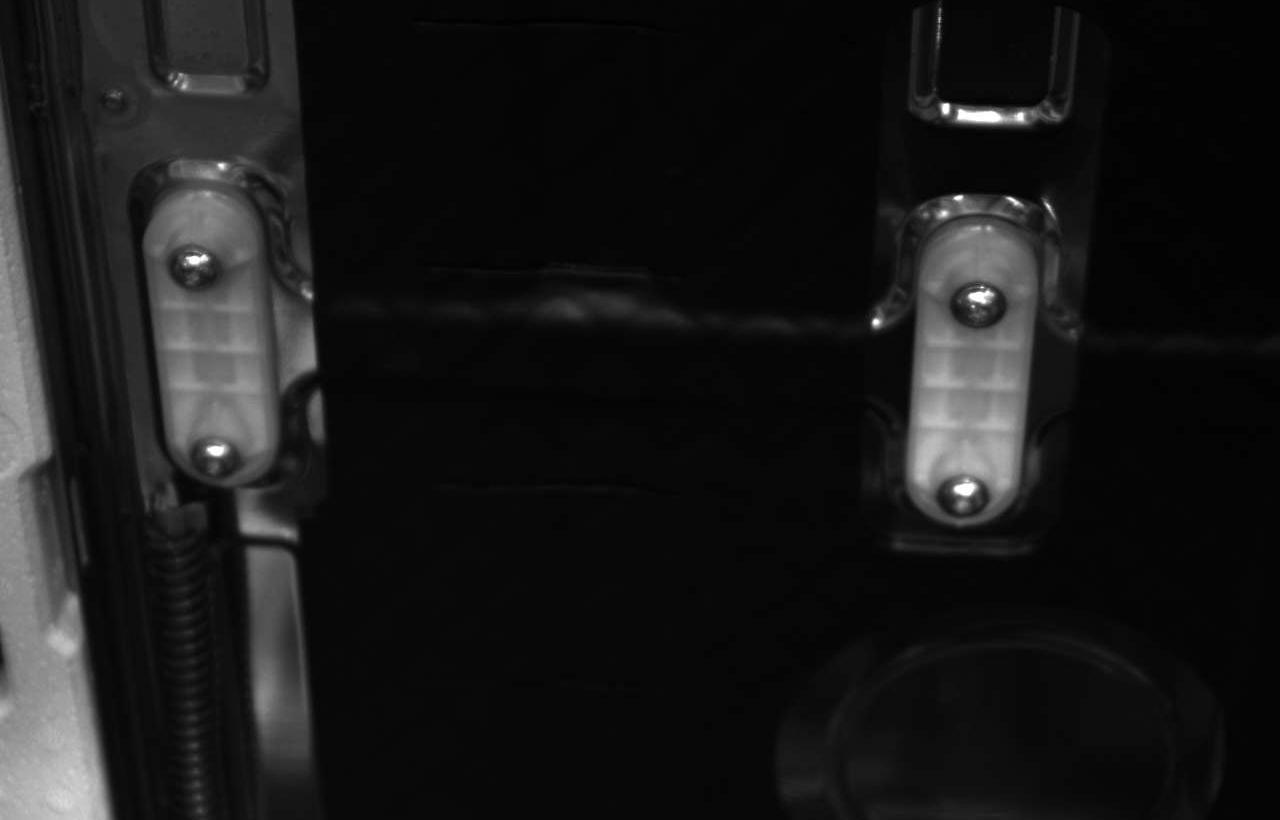vida-ok: (160, 237, 231, 304), (947, 272, 1014, 339), (931, 457, 997, 525), (183, 425, 249, 484)
